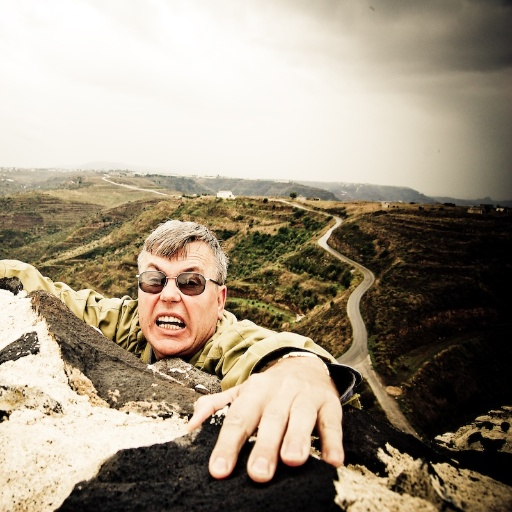hand: (194, 365, 368, 504)
